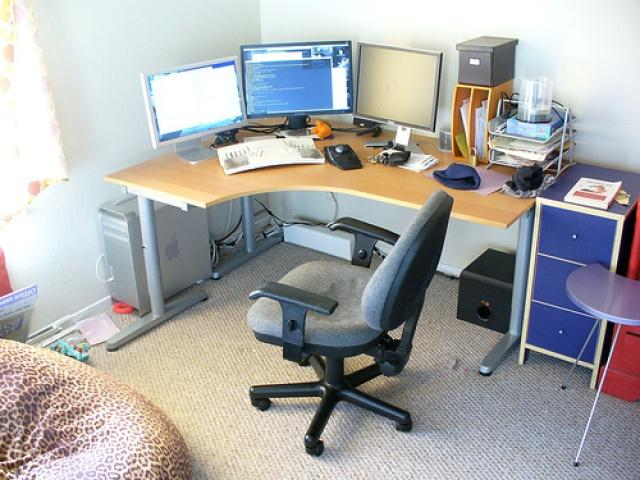AIO PC-Monitor-TV: (137, 53, 245, 149), (239, 39, 354, 119), (351, 39, 443, 133)
Kursi: (244, 188, 454, 457)
Meja: (101, 113, 576, 230)
